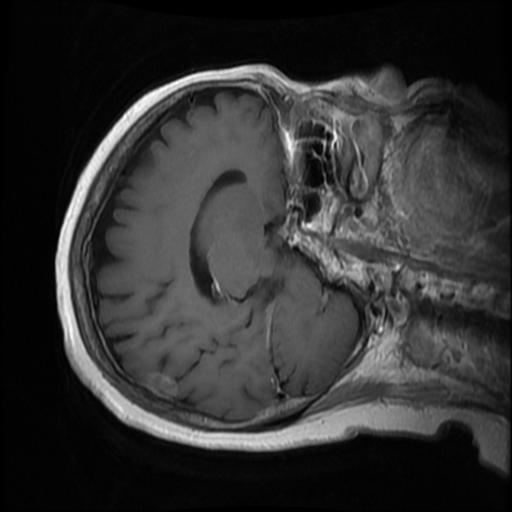meningioma: (142, 372, 178, 399)
